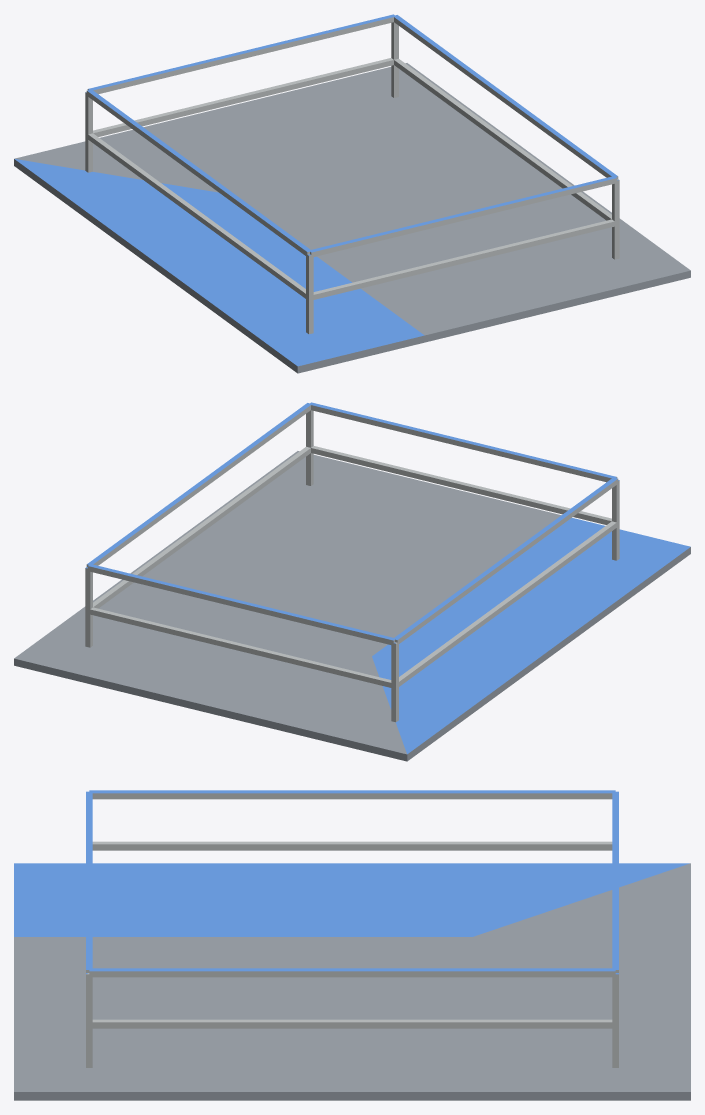
The model's file is veyran_shipyard_scaffolding.glb.
The picture shows the model from 3 angles, top to bottom: view 1: azimuth 30°, elevation 25°; view 2: azimuth 150°, elevation 25°; view 3: azimuth 270°, elevation 25°; orthographic projection. The views are drawn at different scales.
Visible parts, largest first — view 1: hull; view 2: hull; view 3: hull.
Part boxes in pixels (left/top/right/bottom): hull: left=14, top=14, right=690, bottom=373; hull: left=14, top=402, right=690, bottom=761; hull: left=14, top=790, right=690, bottom=1100.
Size of the model in its own units: 14.4 by 3.09 by 18.
